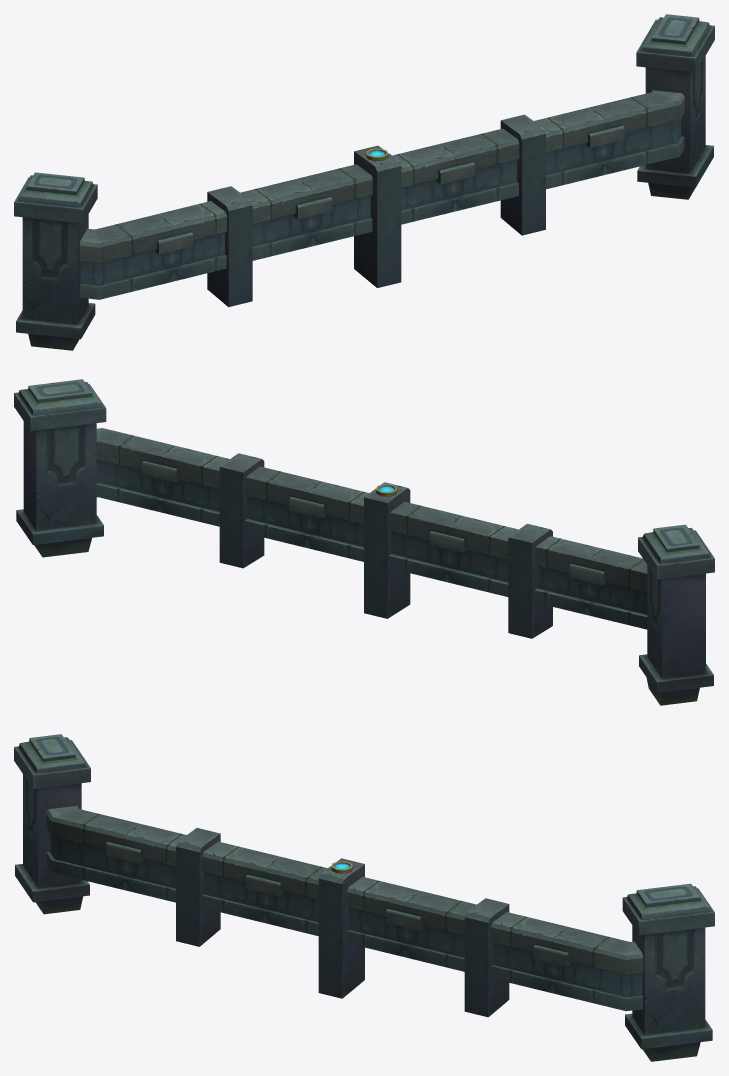
File: zhucheng_langan06.FBX
3 views of the same model, one above another, from view 1: azimuth 30°, elevation 25°; view 2: azimuth 150°, elevation 25°; view 3: azimuth 330°, elevation 25° (orthographic).
Parts seen in each view (by area): view 1: zhucheng_langan06; view 2: zhucheng_langan06; view 3: zhucheng_langan06.
Part boxes in pixels (x1,y1,x2,y2): zhucheng_langan06: (14, 14, 714, 350); zhucheng_langan06: (14, 379, 714, 705); zhucheng_langan06: (14, 734, 714, 1061).
Size of the model in its own units: 2494 by 540 by 328.
